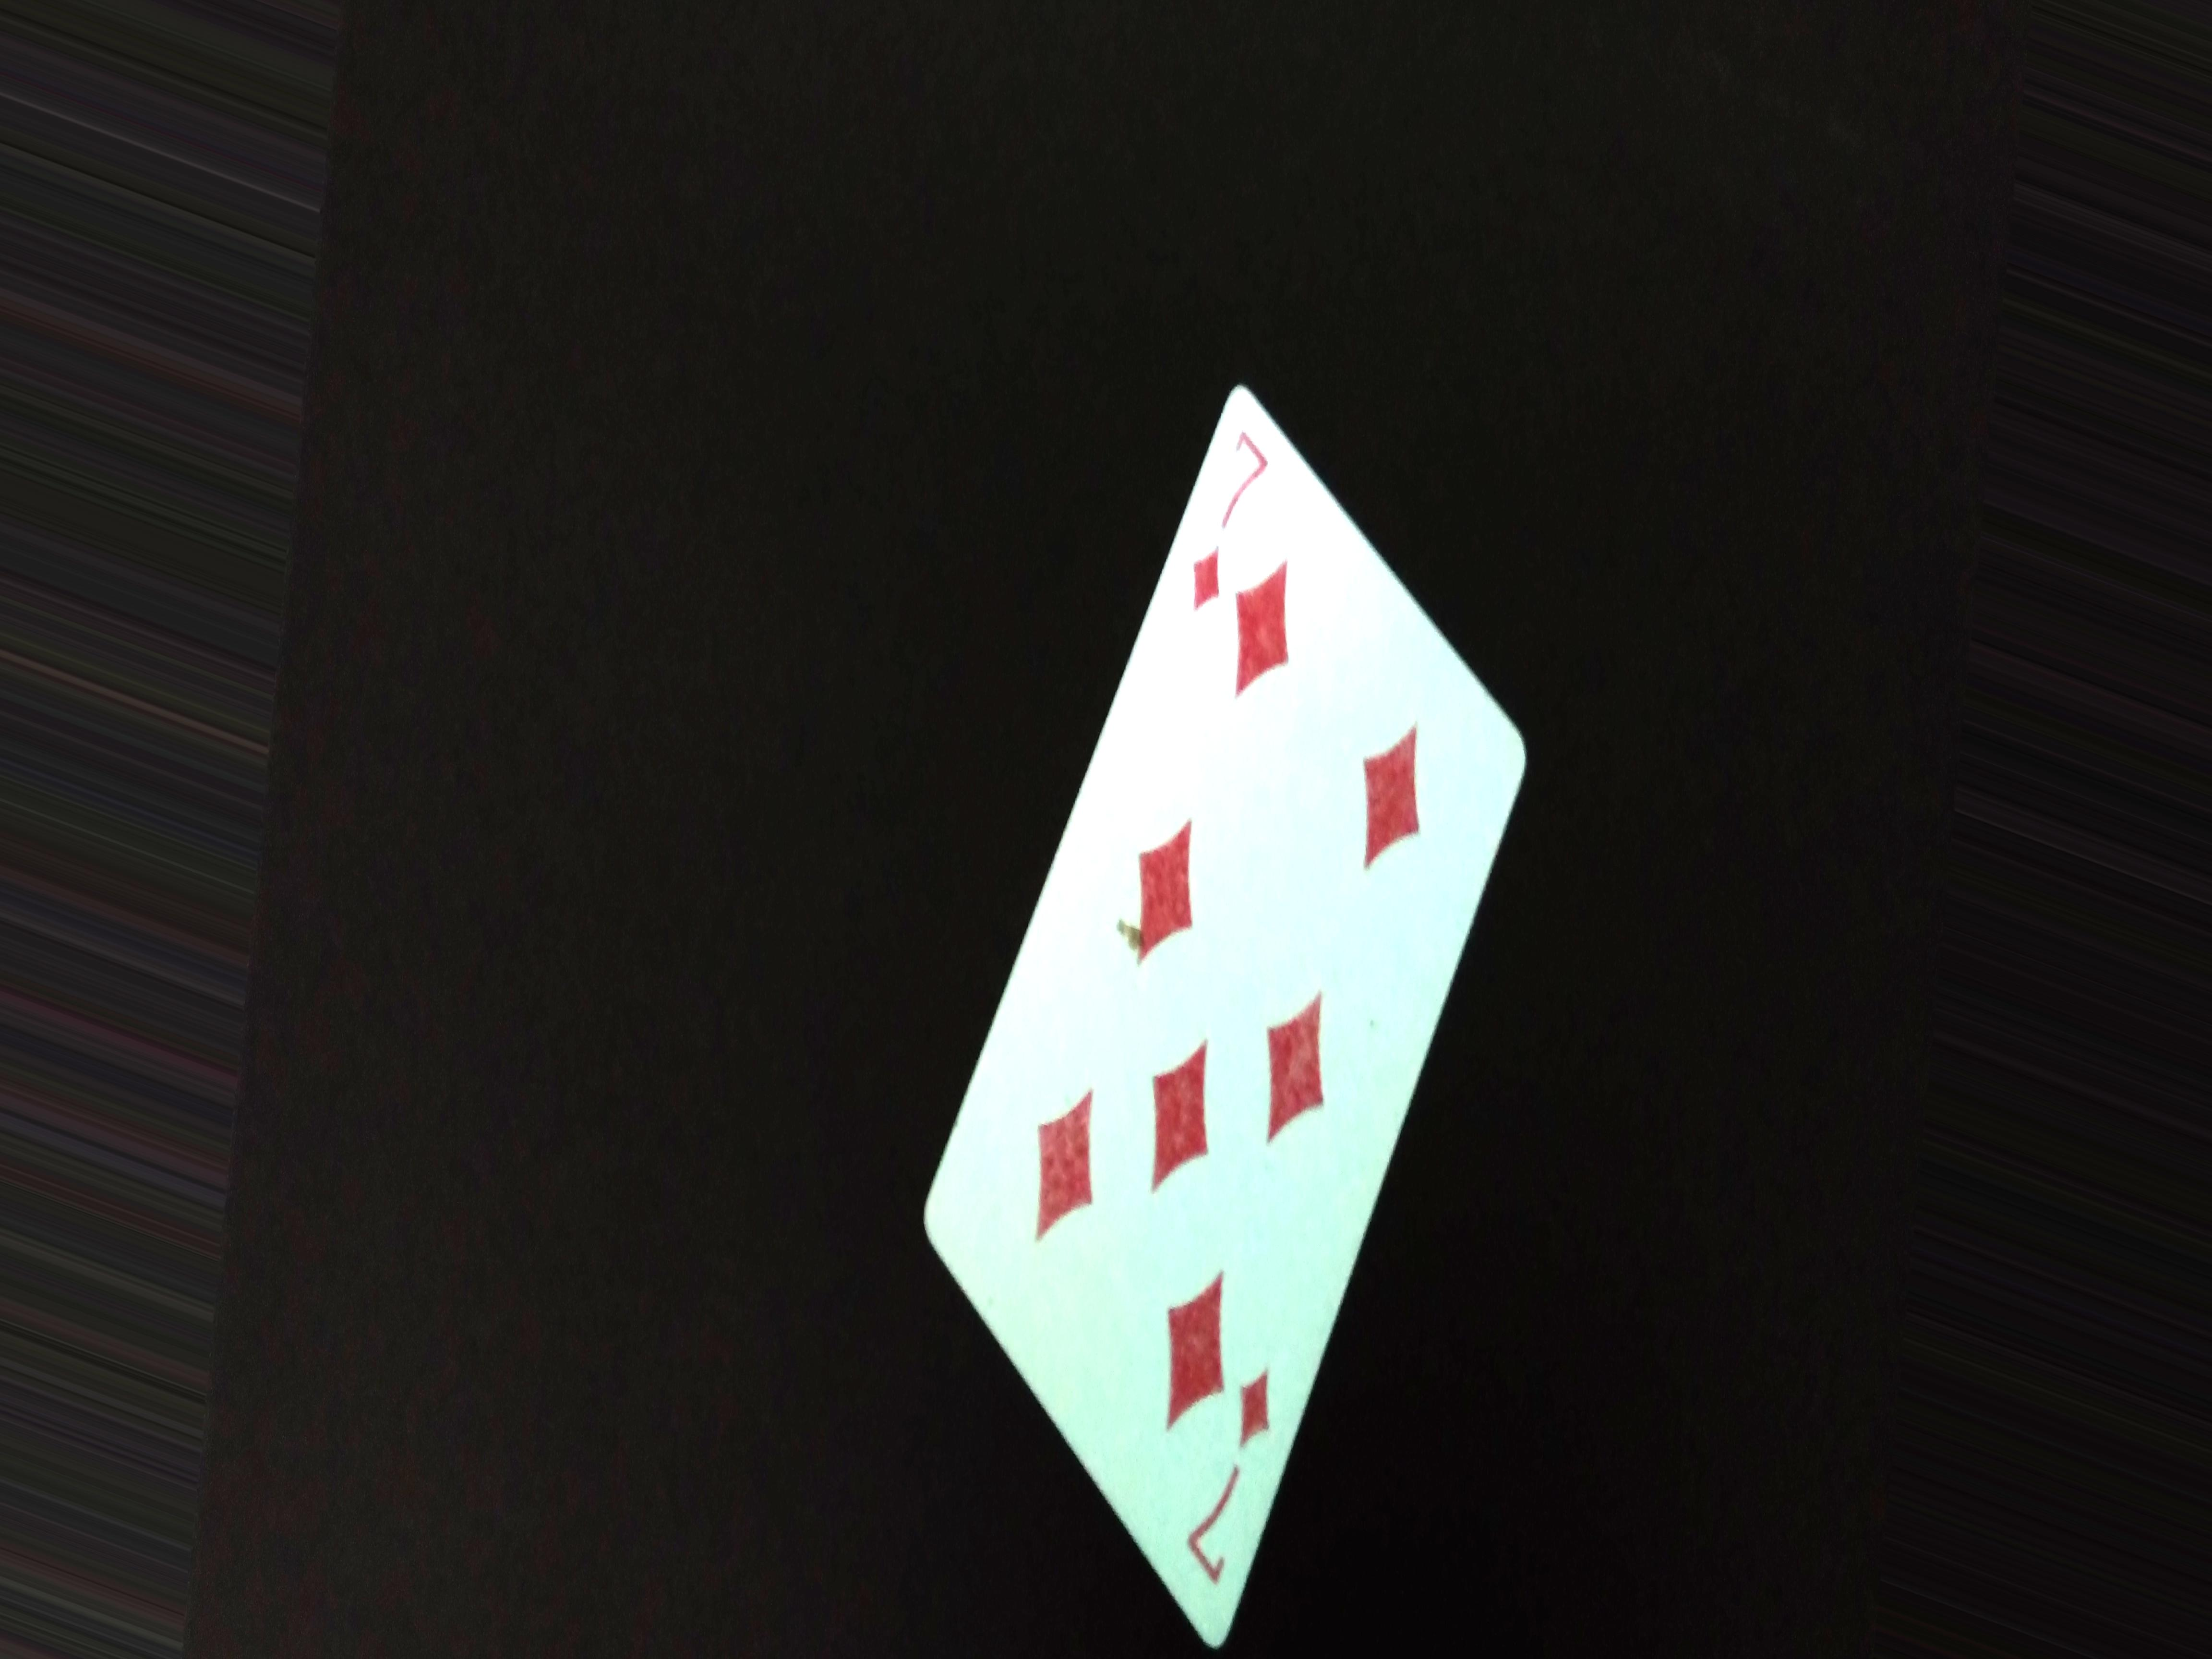7D: (1174, 413, 1292, 626)
